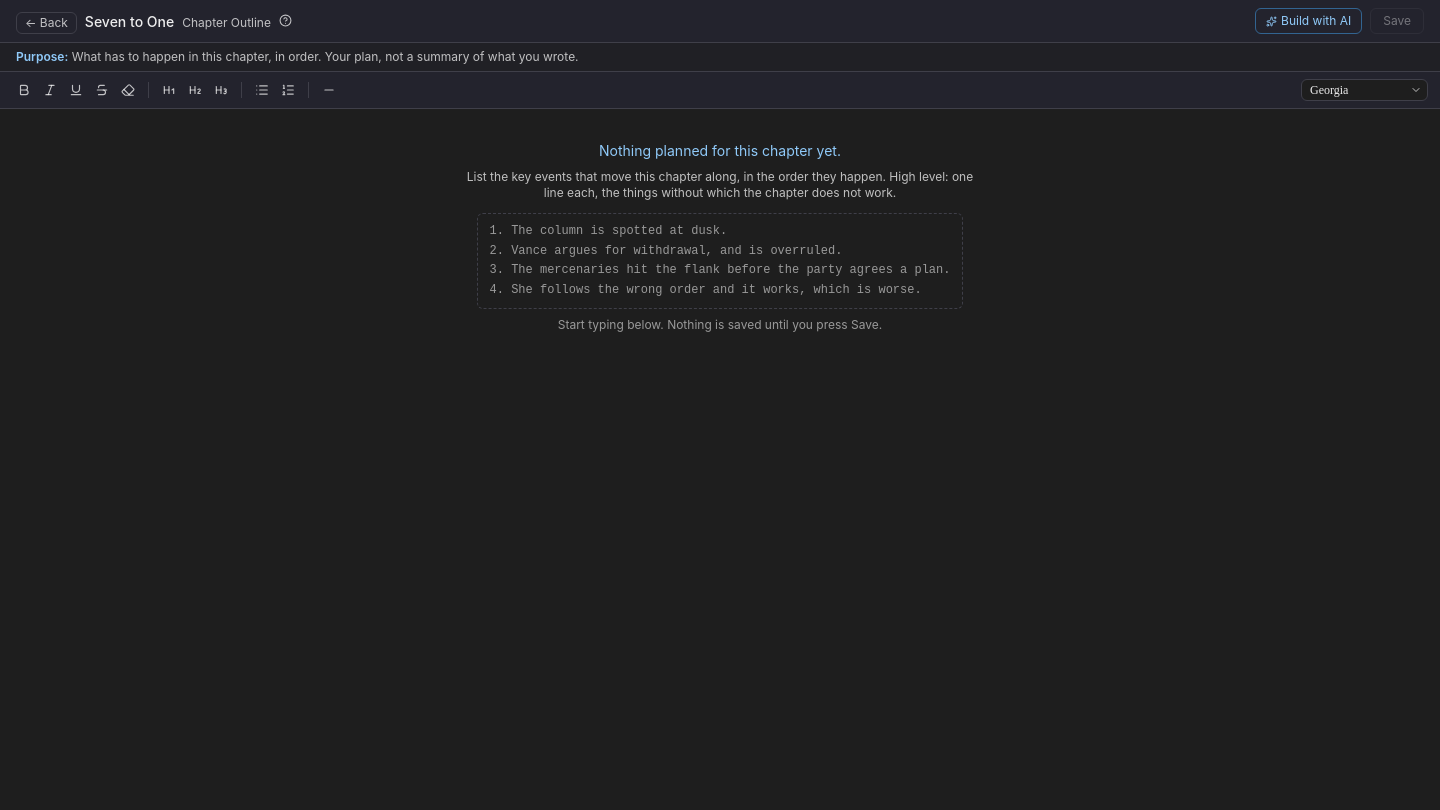
Test: build with AI › shows the proposal and writes nothing yet
The image size is (1440, 810).
Expected: the text "Seven to One" is shown, [85,12,174,32]
Click the button "Build with AI" at (1309, 21), box [1255,8,1362,34]
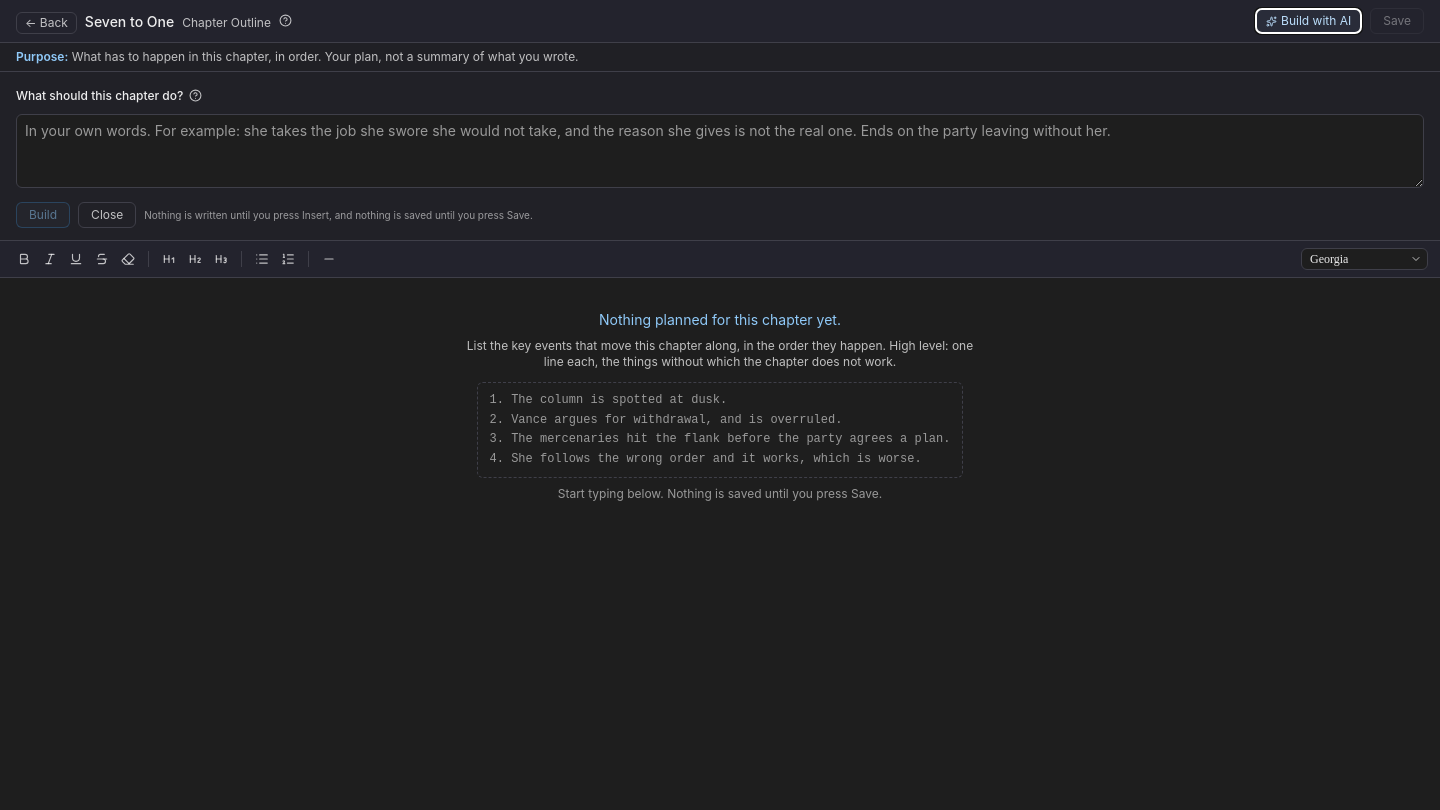
Type "she refuses" into the text box with placeholder "In your own words" at (720, 151), box [16,114,1424,188]
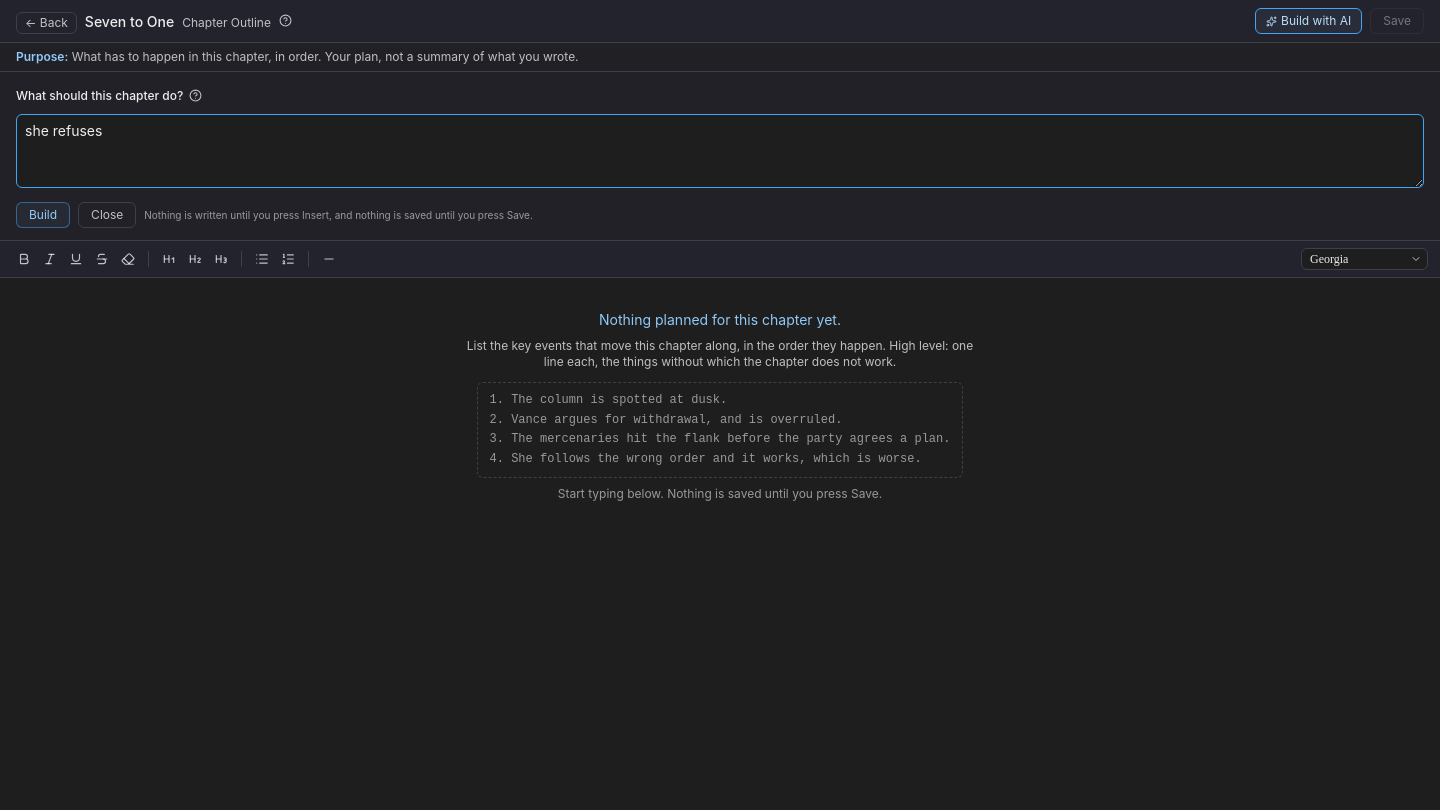
Click the button "Build" at (43, 215), box [16,202,70,228]
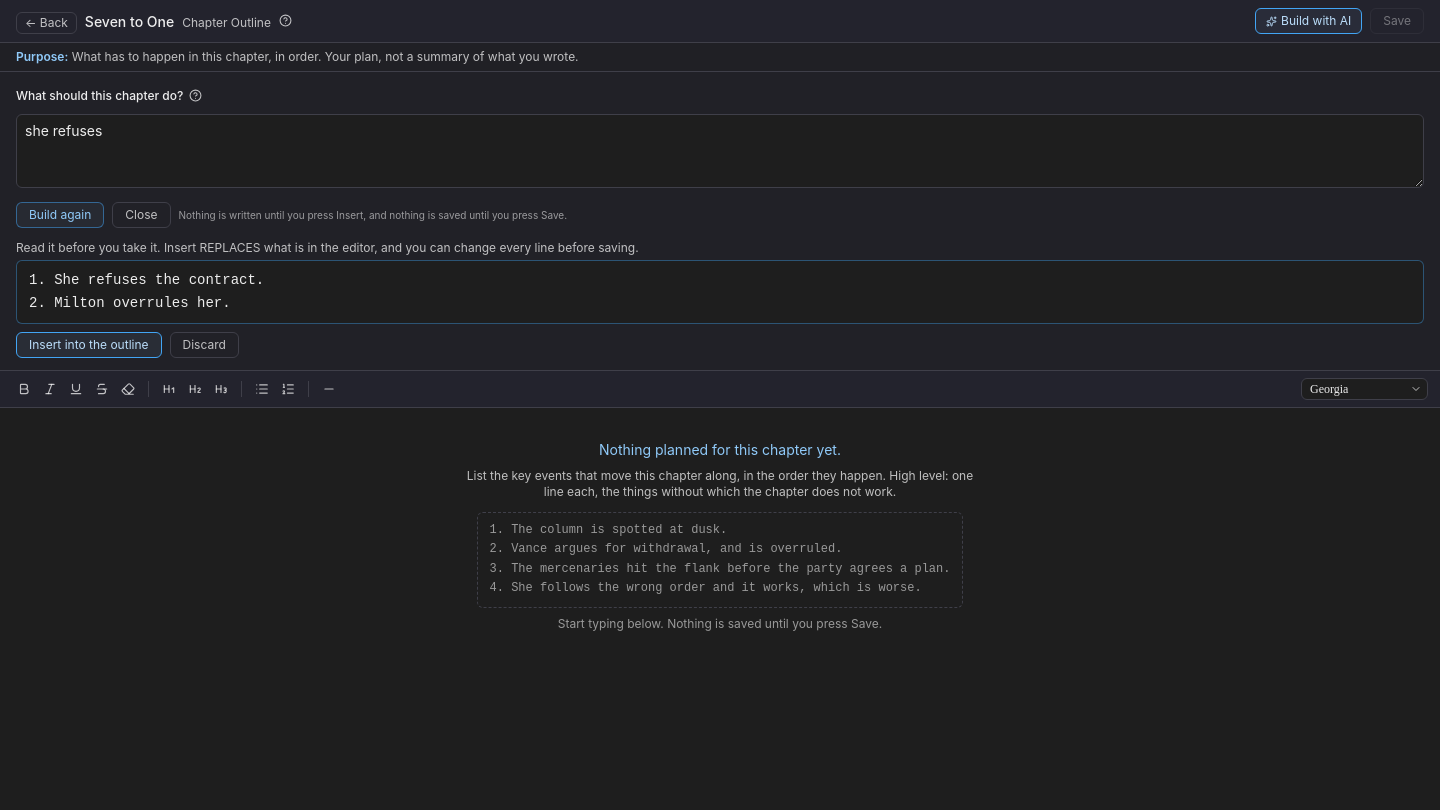
Expected: the element with test id "outline-proposal" is shown, [16,240,1424,358]
Expected: the text "1. She refuses the contract. 2. Milton overrules her." is shown, [16,260,1424,324]
